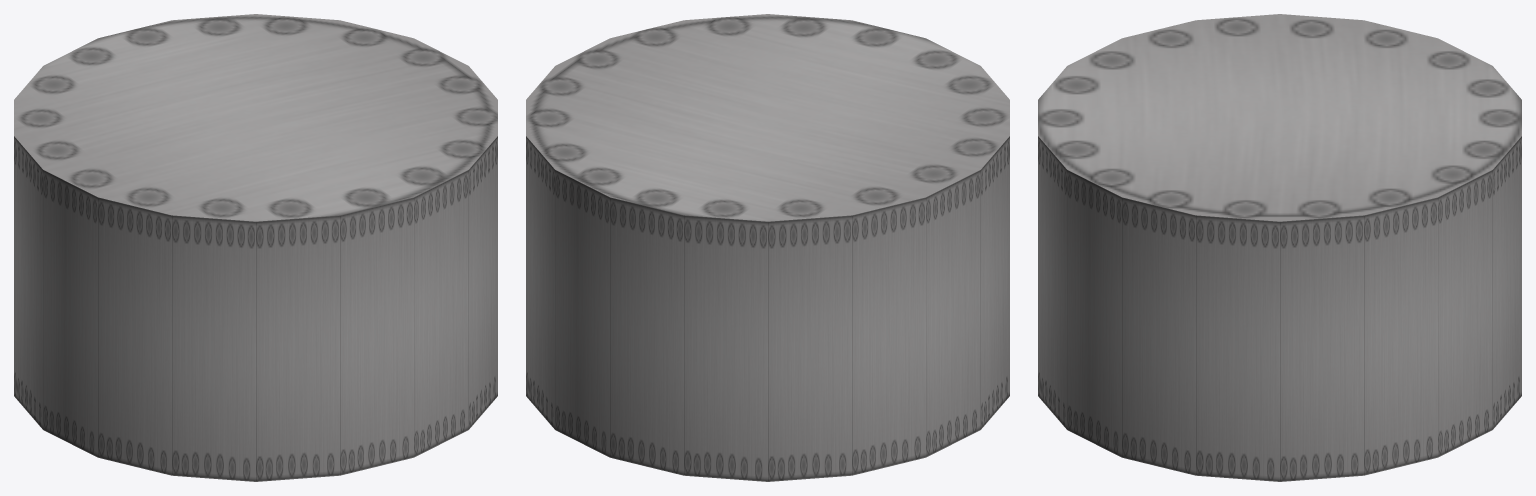
File: aluCylinder.obj
3 renders of one model, left to right at view 1: azimuth 30°, elevation 25°; view 2: azimuth 150°, elevation 25°; view 3: azimuth 270°, elevation 25°, orthographic.
Visible parts, largest first — view 1: aluCylinder; view 2: aluCylinder; view 3: aluCylinder.
Boxes of the visible parts, box(x1,y1,x2,y2) form: aluCylinder: box(14, 14, 497, 481); aluCylinder: box(526, 14, 1009, 481); aluCylinder: box(1038, 14, 1521, 481).
Size of the model in its own units: 1.71 by 1 by 1.69.
1 material, 1 textured.
